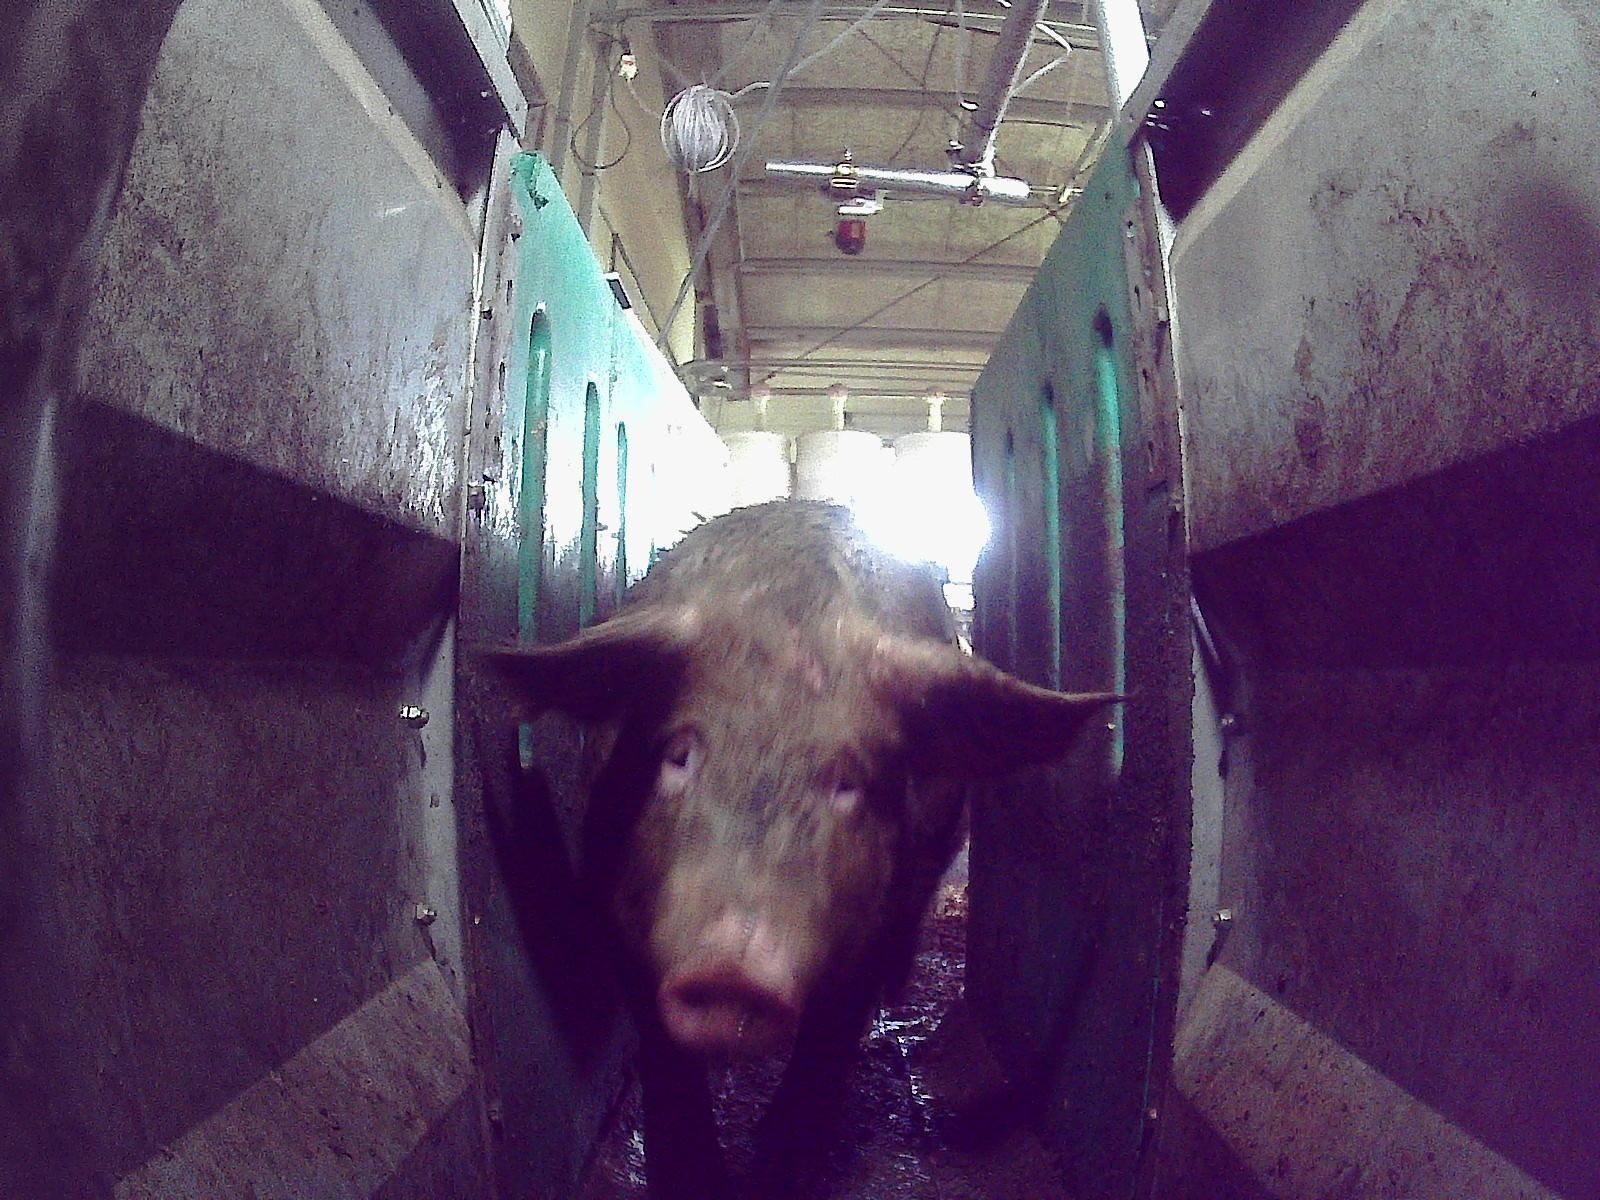Face: (607, 604, 913, 1066)
